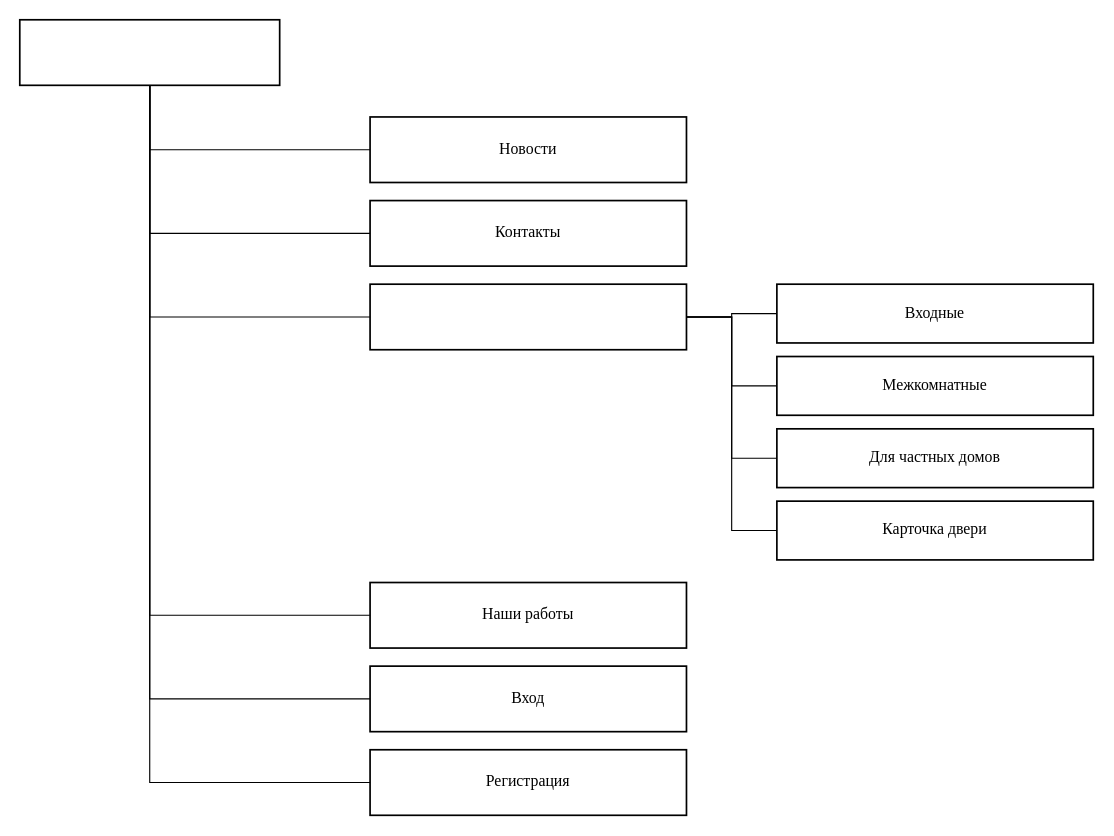
The diagram is 1114 pixels wide and 836 high, and some of its shapes have lost their labels. Each missing label, with the box of its shape:
Главная: (18, 18, 280, 86)
Каталог: (369, 283, 687, 350)
